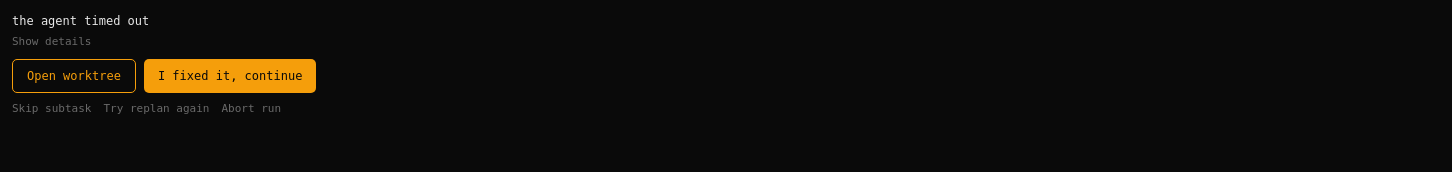
Test case: EscalationActions — error summary › hides the details pane by default and toggles it open
Click the button with test id "escalation-details-toggle". click: [52, 42]
box: top-left (12, 34), bottom-right (92, 50)
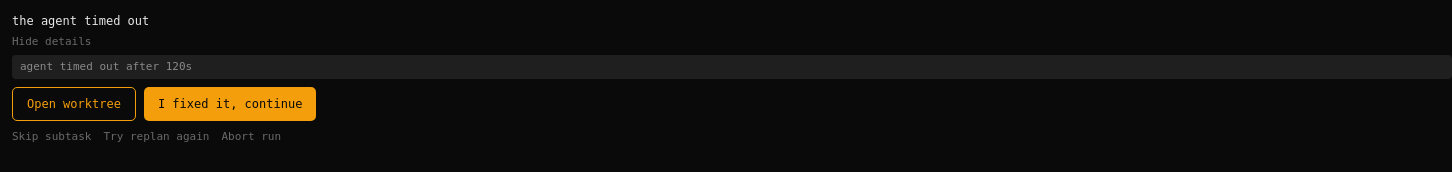
expect the text "agent timed out after 120s" is shown: met, box top-left (12, 54), bottom-right (1451, 79)
